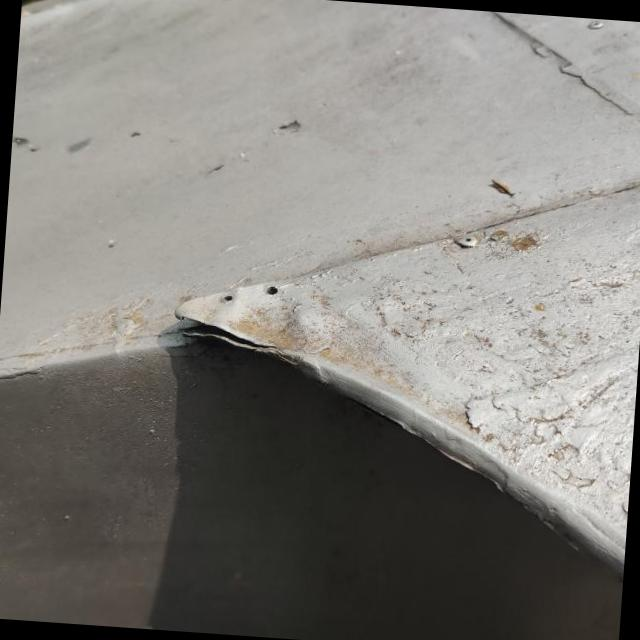Crack: (164, 298, 284, 356)
